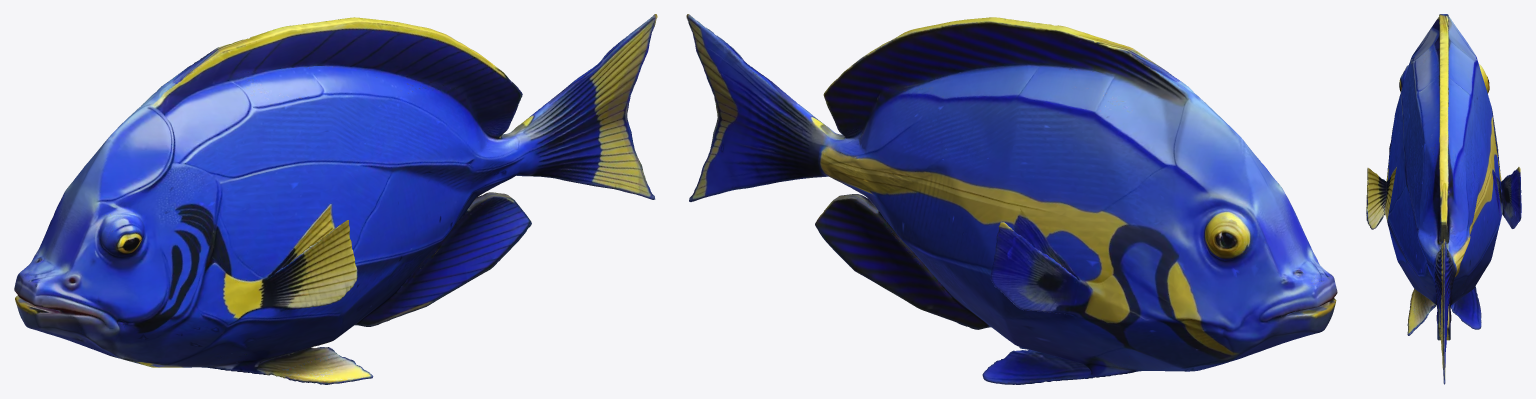
The model's file is Blue_Tang_texture.glb.
3 views of the same model, side by side, from view 1: azimuth 30°, elevation 25°; view 2: azimuth 150°, elevation 25°; view 3: azimuth 270°, elevation 25° (orthographic). The views are drawn at different scales.
Size of the model in its own units: 2 by 1.04 by 0.5354.
Materials: 1 (1 with a texture image).
